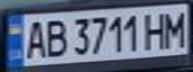1: (121, 11, 142, 52), (106, 12, 127, 53)
3: (69, 15, 93, 56)
7: (87, 14, 109, 54)
A: (21, 17, 48, 60)
B: (42, 17, 69, 59)
H: (142, 9, 172, 51)
M: (160, 7, 190, 48)
